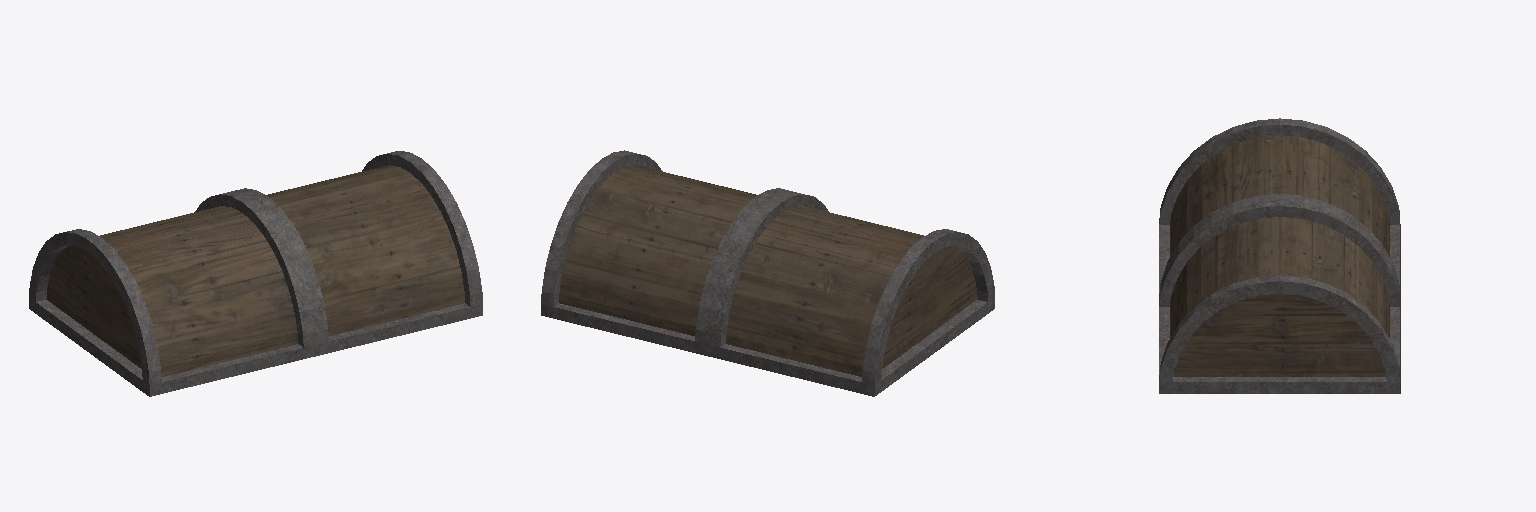
The picture shows the model from 3 angles: view 1: azimuth 30°, elevation 25°; view 2: azimuth 150°, elevation 25°; view 3: azimuth 270°, elevation 25°; orthographic projection.
Parts seen in each view (by area): view 1: Cylinder.002_Cylinder.003; view 2: Cylinder.002_Cylinder.003; view 3: Cylinder.002_Cylinder.003.
Boxes of the visible parts, box(x1,y1,x2,y2) form: Cylinder.002_Cylinder.003: box(29, 151, 482, 396); Cylinder.002_Cylinder.003: box(541, 150, 994, 396); Cylinder.002_Cylinder.003: box(1159, 118, 1400, 393).
Size of the model in its own units: 4.91 by 1.58 by 3.07.
Materials: 1 (1 with a texture image).